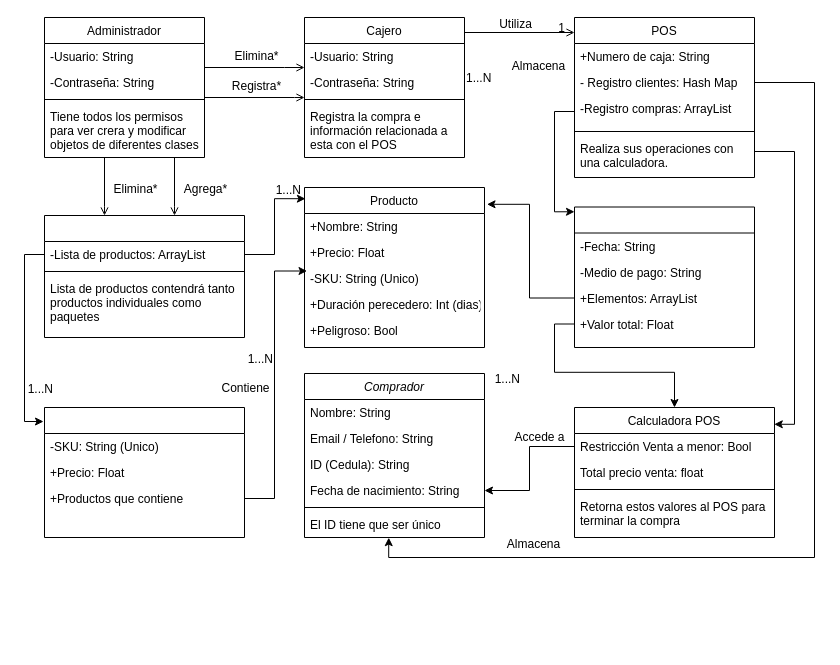
Some shapes in this 840 by 665 pixel diagram are drawn without their labels. The box of each missing label's shape, as (x1, y1, x2, y2) in pixels:
Compra: (574, 206, 754, 348)
Inventario: (44, 214, 244, 338)
Paquete productos: (44, 406, 244, 538)
